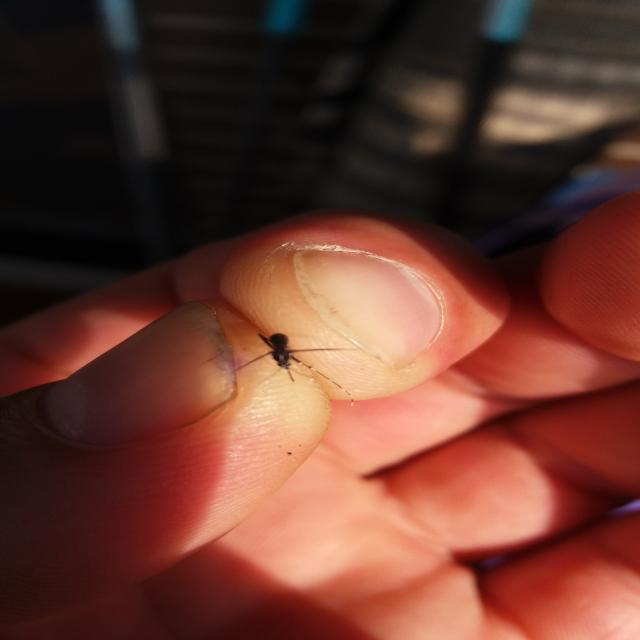albopictus: (231, 323, 354, 399)
